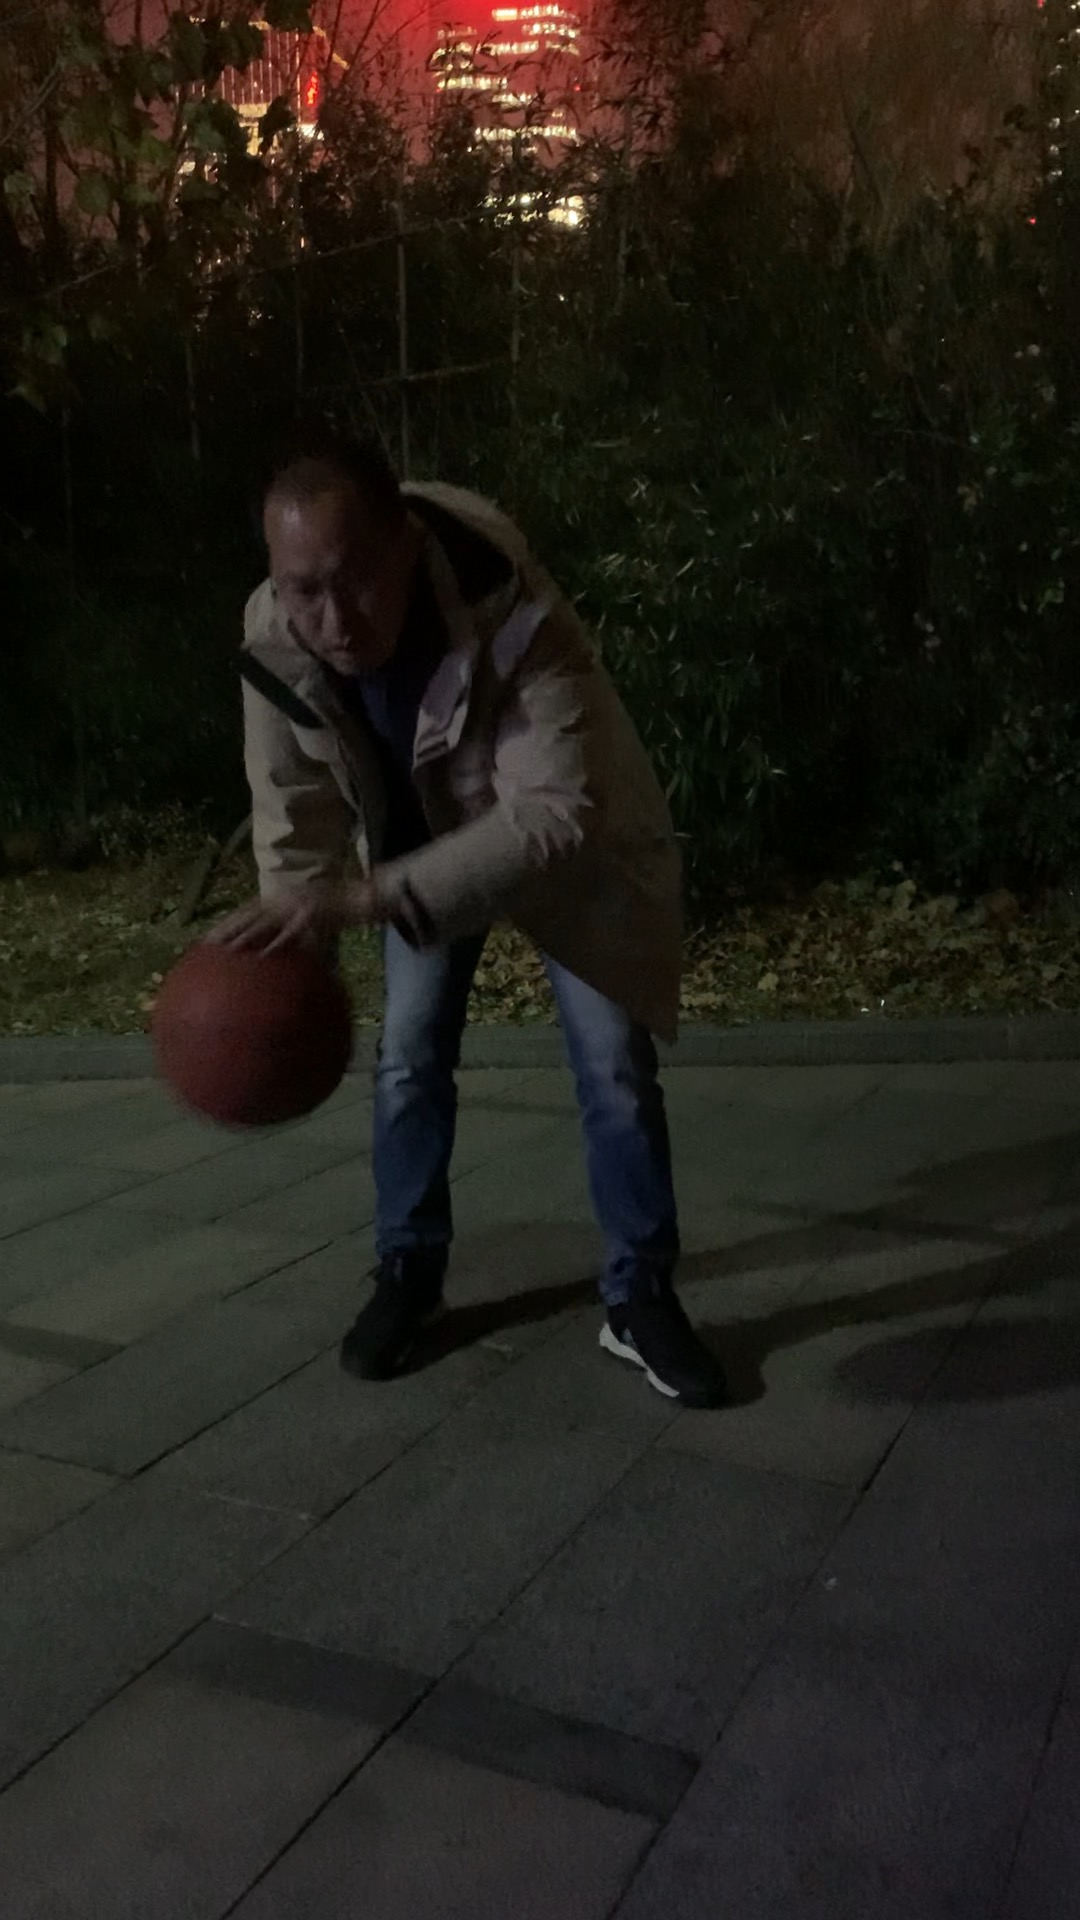ball: (146, 923, 353, 1141)
